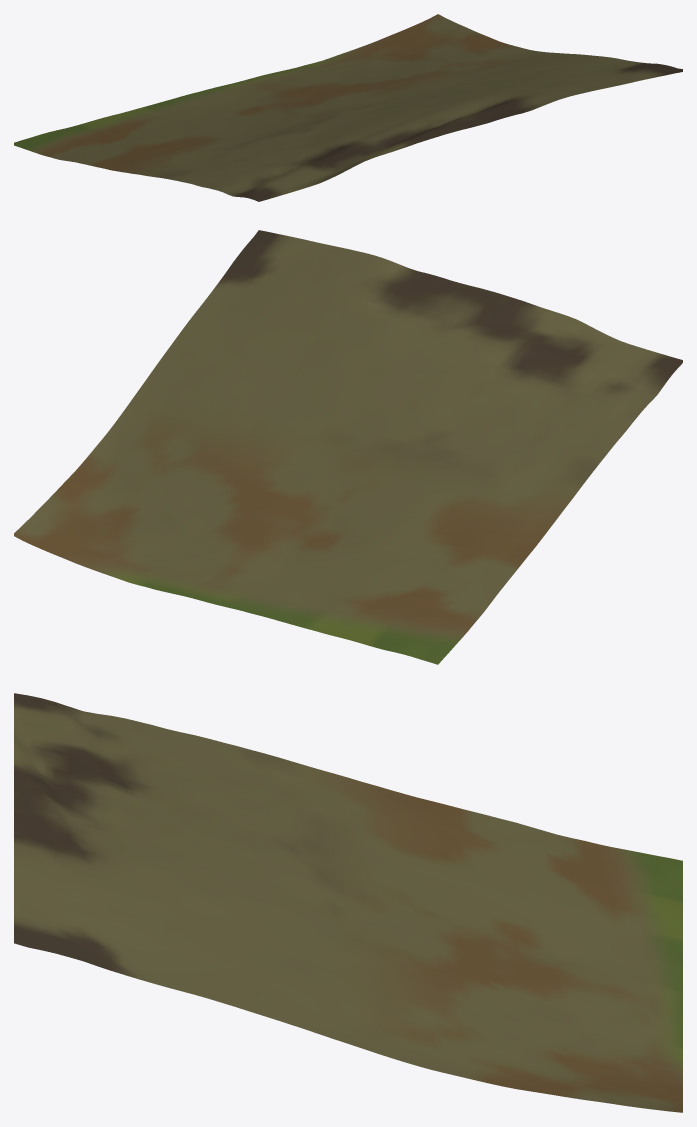
Rendered from land_m_08_09.glb.
3 views of the same model, one above another, from view 1: azimuth 30°, elevation 25°; view 2: azimuth 150°, elevation 25°; view 3: azimuth 270°, elevation 25° (orthographic). The views are drawn at different scales.
Parts seen in each view (by area): view 1: land_m_08_09; view 2: land_m_08_09; view 3: land_m_08_09.
Part boxes in pixels (<box>): land_m_08_09: <box>14,14,682,201</box>; land_m_08_09: <box>14,230,682,664</box>; land_m_08_09: <box>14,693,682,1112</box>.
Bounding box in the file's own units: 960 × 336 × 960.
